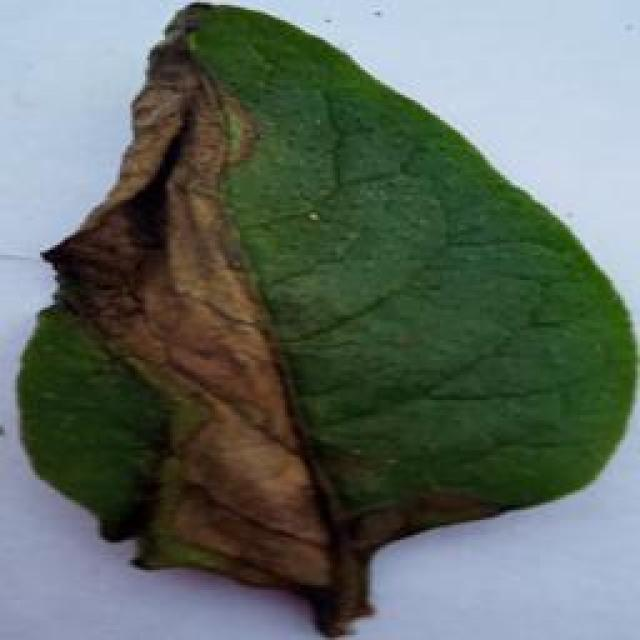Potato_Late_Blight: (16, 4, 626, 634)
